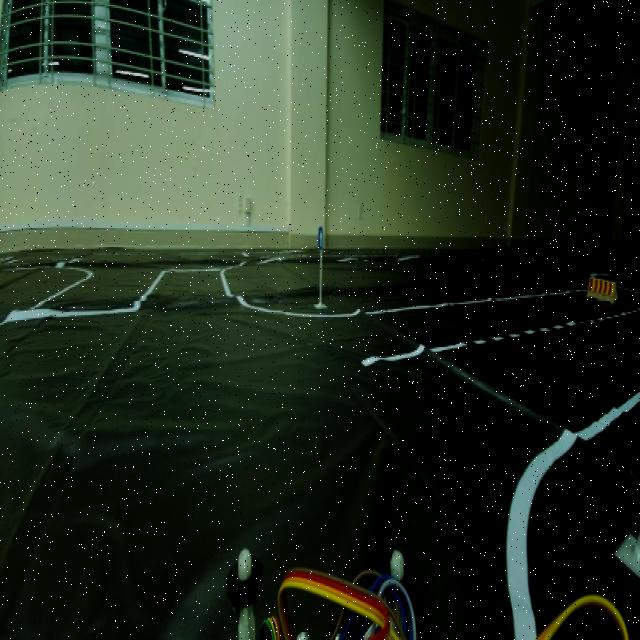onewayroad: (312, 224, 324, 239)
roadblock: (588, 270, 621, 302)
